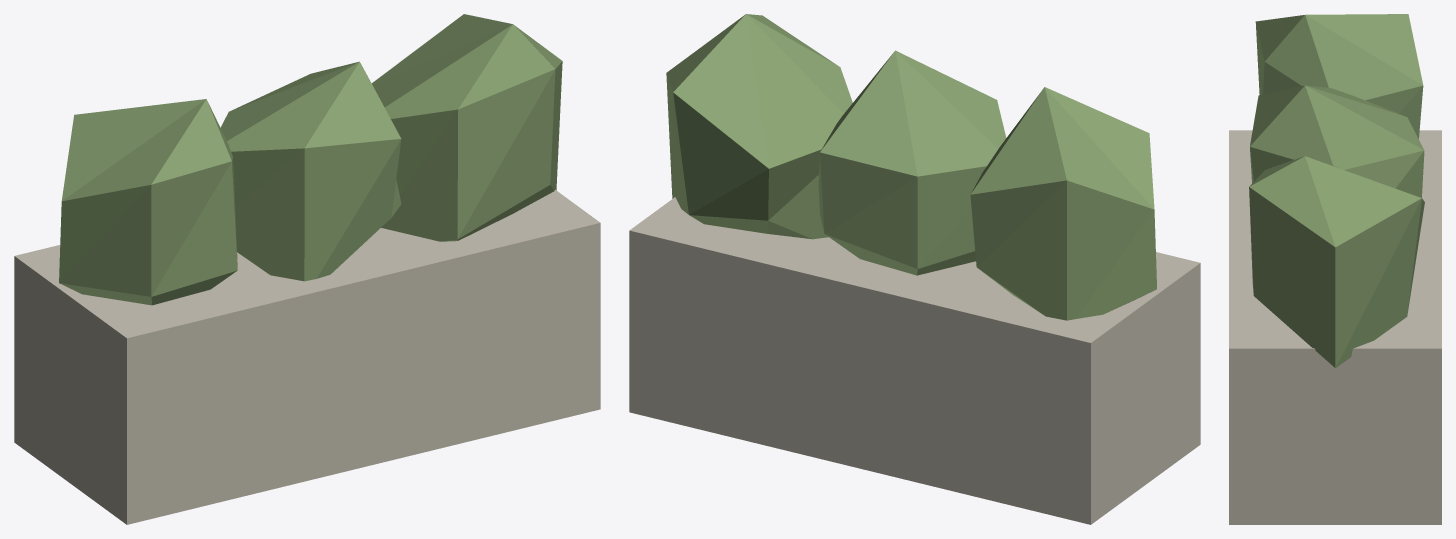
3 views of the same model, side by side, from view 1: azimuth 30°, elevation 25°; view 2: azimuth 150°, elevation 25°; view 3: azimuth 270°, elevation 25° (orthographic). The views are drawn at different scales.
Bounding box in the file's own units: 1.81 × 1.26 × 0.7.
